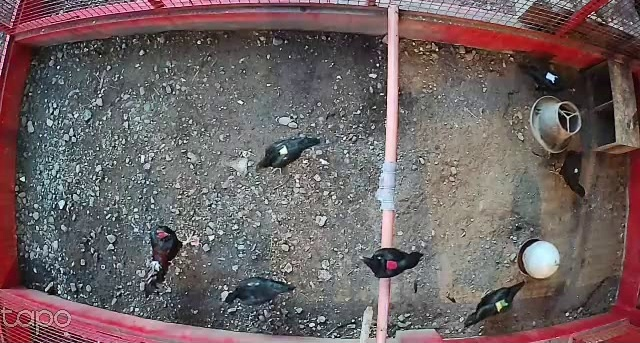Chicken: (460, 277, 526, 331), (251, 134, 321, 176), (221, 272, 297, 310), (514, 56, 581, 99), (355, 246, 427, 283), (548, 146, 585, 198)
Rooster: (141, 221, 200, 300)
Saddle_Color_Red: (384, 260, 398, 269)
Saddle_Color_White: (544, 71, 557, 83)
Saddle_Color_Yellow: (274, 142, 290, 159)
Saddle_Color_YellowGreen: (495, 298, 509, 312)
